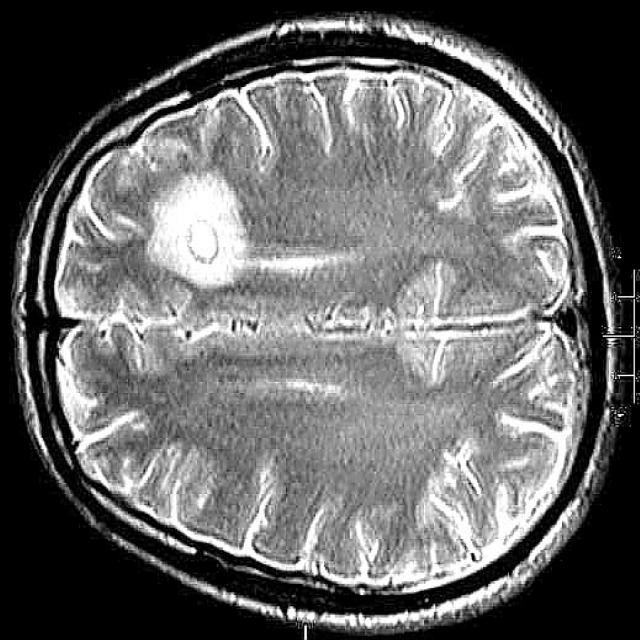tumor: (141, 173, 261, 291)
